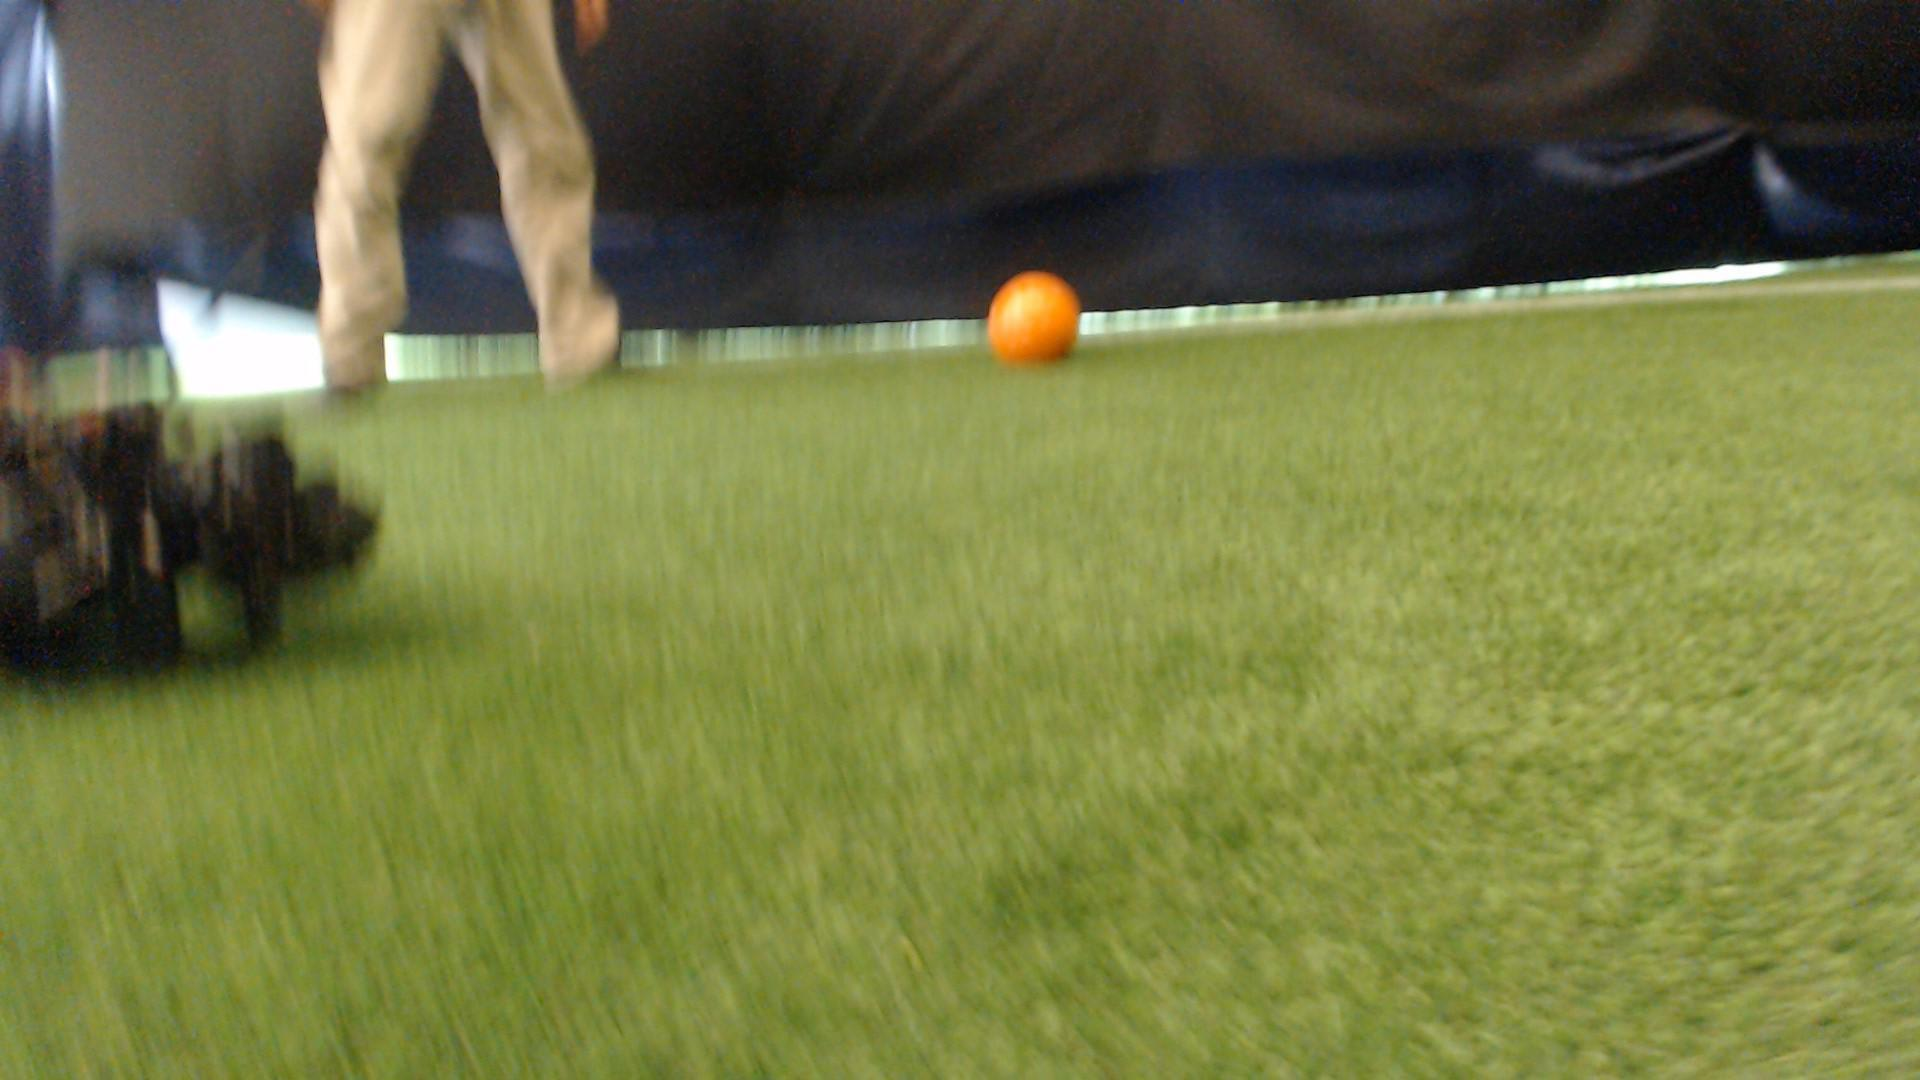bola: (975, 256, 1102, 380)
